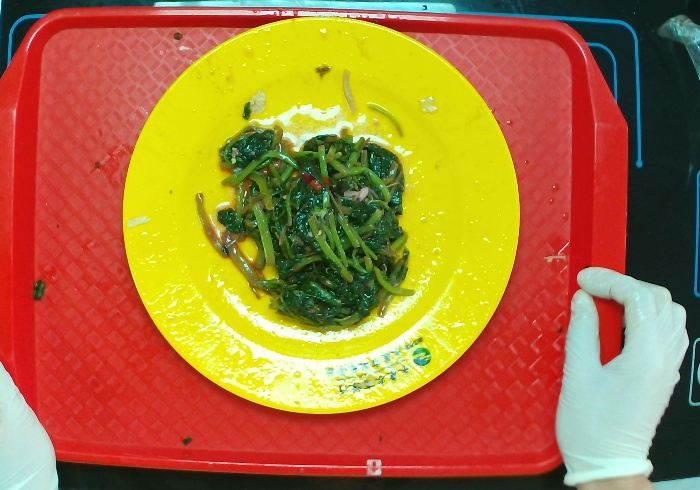YKMZ-Huang_Se_Mian_Pan: (120, 15, 522, 416)
